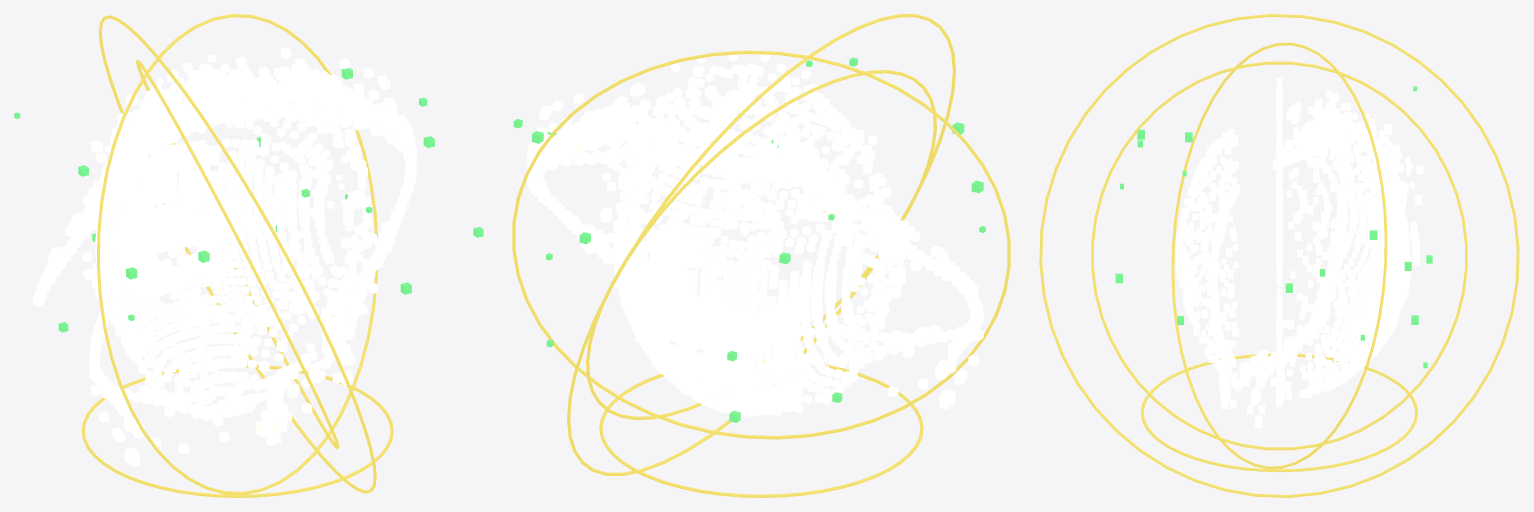
3 renders of one model, left to right at view 1: azimuth 30°, elevation 25°; view 2: azimuth 150°, elevation 25°; view 3: azimuth 270°, elevation 25°, orthographic. The views are drawn at different scales.
Visible parts, largest first — view 1: VoxelHead, RingA, RingB, RingC, HoloBase; view 2: VoxelHead, RingA, RingB, RingC, HoloBase; view 3: VoxelHead, RingB, RingC, RingA, HoloBase.
Part boxes in pixels (x1,y1,x2,y2): VoxelHead: [33, 47, 416, 466]; RingA: [97, 14, 378, 494]; RingB: [98, 15, 376, 493]; RingC: [136, 59, 339, 449]; HoloBase: [81, 364, 393, 497]; VoxelHead: [527, 54, 983, 416]; RingA: [512, 50, 1010, 439]; RingB: [567, 14, 955, 475]; RingC: [586, 70, 936, 419]; HoloBase: [599, 359, 923, 497]; VoxelHead: [1175, 78, 1423, 428]; RingB: [1039, 14, 1519, 497]; RingC: [1091, 61, 1467, 450]; RingA: [1171, 42, 1387, 469]; HoloBase: [1141, 353, 1417, 472].
Bounding box in the file's own units: 3.59 × 3.77 × 4.03.
